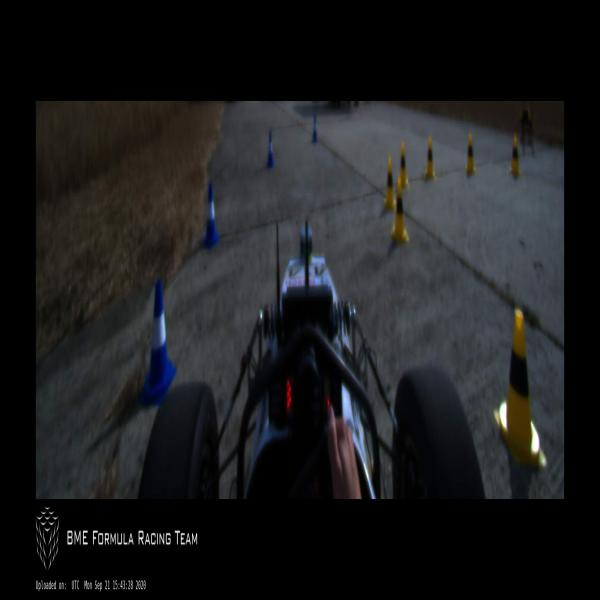blue_cone: (140, 280, 176, 410), (202, 185, 220, 251), (265, 131, 275, 169), (312, 114, 318, 143)
yellow_cone: (493, 309, 547, 467), (391, 178, 410, 245), (383, 157, 397, 212), (424, 136, 436, 180), (464, 133, 476, 176), (509, 137, 521, 177), (399, 143, 409, 190)
